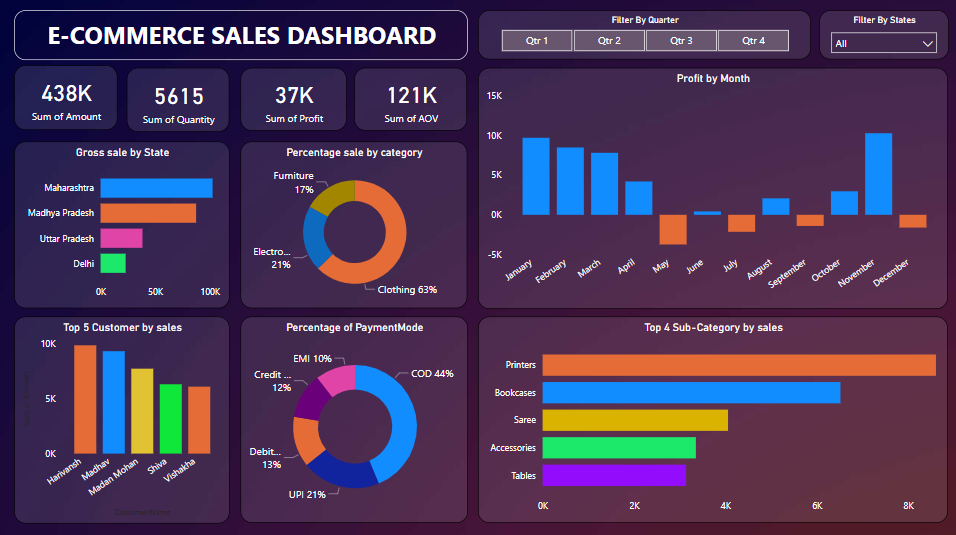

What the dashboard file says about the page in this screenshot:
{"tool":"powerbi","page":{"name":"Page 1","canvas":[1280,720],"ordinal":0},"visuals":[{"type":"textbox","box":[21.7,15,605,66.7],"z":0},{"type":"columnChart","title":"Profit by Month","fields":{"Y":["Details.Profit"],"Category":["Orders.Order Date.Variation.Date Hierarchy.Month"]},"box":[640,91.2,626.2,321.2],"z":1000},{"type":"barChart","title":"Top 4 Sub-Category by sales","fields":{"Category":["Details.Sub-Category"],"Y":["Details.Profit"]},"box":[640,423.3,626.7,275],"z":2000},{"type":"donutChart","title":"Percentage sale by category","fields":{"Category":["Details.Category"],"Y":["Details.Quantity"]},"box":[323.8,190,302.5,222.5],"z":3000},{"type":"donutChart","title":"Percentage of PaymentMode","fields":{"Y":["Details.Quantity"],"Category":["Details.PaymentMode"]},"box":[323.3,423.3,303.3,275],"z":4000},{"type":"card","fields":{"Values":["Details.Amount"]},"box":[21.2,88.8,137.5,86.2],"z":5000},{"type":"card","fields":{"Values":["Details.Quantity"]},"box":[170.8,91.7,136.7,85.8],"z":6000},{"type":"card","fields":{"Values":["Details.Profit"]},"box":[322.9,91.4,141.4,84.3],"z":7000},{"type":"card","fields":{"Values":["Details.AOV"]},"box":[475.7,91.4,150,84.3],"z":8000},{"type":"barChart","title":"Gross sale by State","fields":{"Category":["Orders.State"],"Y":["Details.Amount"]},"box":[21.2,190,287.5,222.5],"z":9000},{"type":"columnChart","title":" Top 5 Customer by sales","fields":{"Category":["Orders.CustomerName"],"Y":["Details.Amount"]},"box":[21.4,422.9,287.1,275.7],"z":10000},{"type":"slicer","title":"Filter By Quarter","fields":{"Values":["Orders.Order Date.Variation.Date Hierarchy.Quarter"]},"box":[640,15.7,444.3,65.7],"z":11000},{"type":"slicer","title":"Filter By States","fields":{"Values":["Orders.State"]},"box":[1094.3,15.7,172.9,65.7],"z":12000}]}

Visuals, with their boxes in screenshot pixels (x1, y1, x2, y2), scaled from the page's 1280x720 canvas onto the 956x535 screenshot:
textbox: box(16, 11, 468, 61)
"Profit by Month" columnChart: box(478, 68, 946, 306)
"Top 4 Sub-Category by sales" barChart: box(478, 315, 946, 519)
"Percentage sale by category" donutChart: box(242, 141, 468, 307)
"Percentage of PaymentMode" donutChart: box(241, 315, 468, 519)
card - Details.Amount: box(16, 66, 119, 130)
card - Details.Quantity: box(128, 68, 230, 132)
card - Details.Profit: box(241, 68, 347, 131)
card - Details.AOV: box(355, 68, 467, 131)
"Gross sale by State" barChart: box(16, 141, 231, 307)
" Top 5 Customer by sales" columnChart: box(16, 314, 230, 519)
"Filter By Quarter" slicer: box(478, 12, 810, 60)
"Filter By States" slicer: box(817, 12, 946, 60)
